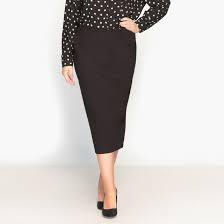F_tailored skirt: (64, 26, 141, 153)
